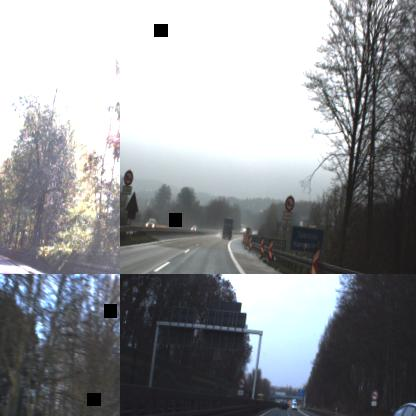no overtaking: (283, 194, 295, 212), (122, 169, 134, 186)
no overtaking -trucks-: (236, 376, 246, 390), (370, 389, 378, 402)
